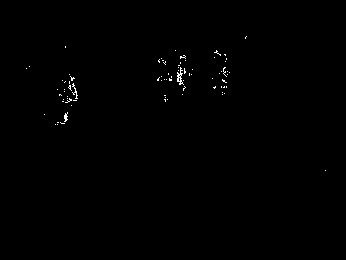person: (58, 71, 78, 124), (177, 54, 191, 98)
